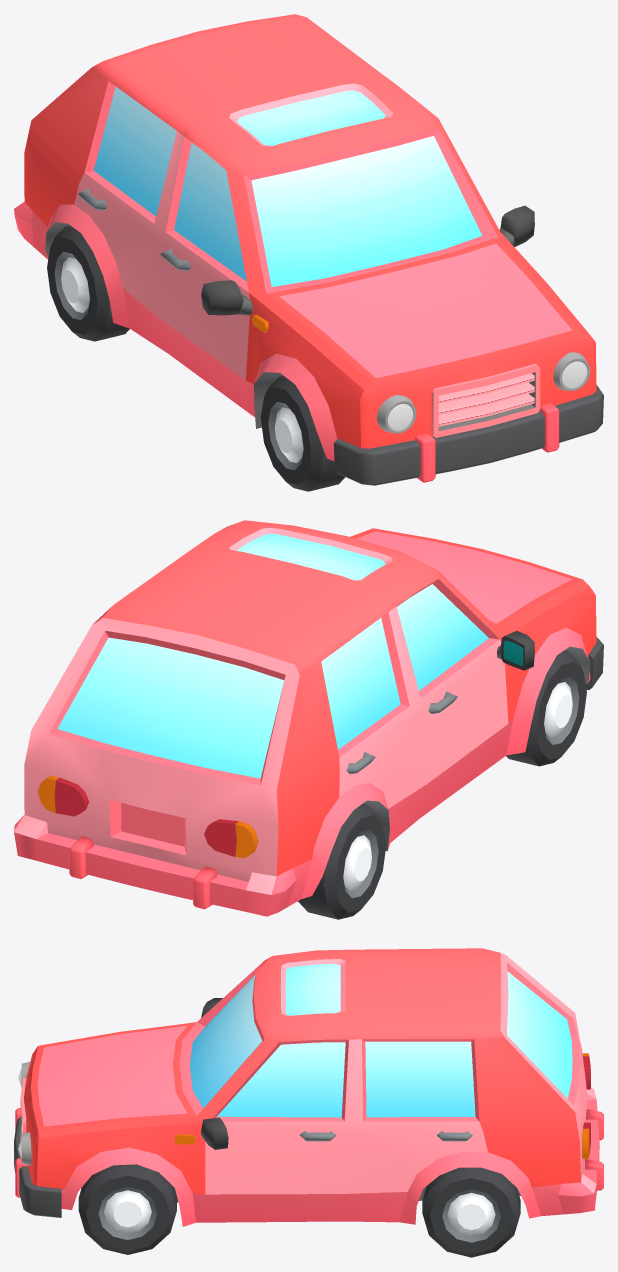
File: city2-car-12.glb
The picture shows the model from 3 angles, top to bottom: view 1: azimuth 30°, elevation 25°; view 2: azimuth 150°, elevation 25°; view 3: azimuth 270°, elevation 25°; orthographic projection. The views are drawn at different scales.
Parts seen in each view (by area): view 1: Car_12, Wheel_013, Wheel_014; view 2: Car_12, Wheel_014, Wheel_013; view 3: Car_12, Wheel_016, Wheel_015.
Boxes of the visible parts, box(x1,y1,x2,y2) form: Car_12: box(14, 14, 603, 485); Wheel_013: box(260, 375, 345, 491); Wheel_014: box(47, 225, 129, 341); Car_12: box(14, 520, 603, 916); Wheel_014: box(298, 803, 386, 919); Wheel_013: box(506, 650, 586, 766); Car_12: box(14, 948, 603, 1226); Wheel_016: box(422, 1167, 520, 1257); Wheel_015: box(78, 1164, 176, 1254).
Bounding box in the file's own units: 2.43 × 1.88 × 4.57.
Materials: 2 (2 with a texture image).
